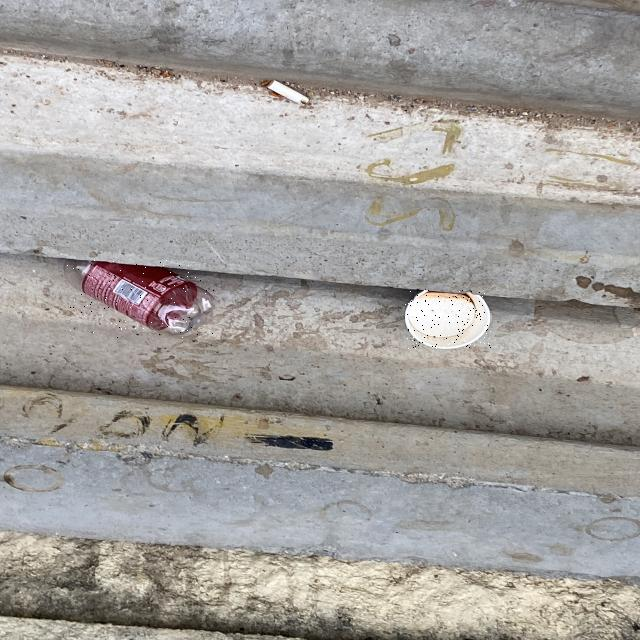paper: (405, 290, 491, 348)
plastic: (64, 260, 214, 338)
